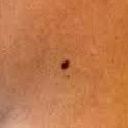Melanoma: (56, 54, 76, 76)
